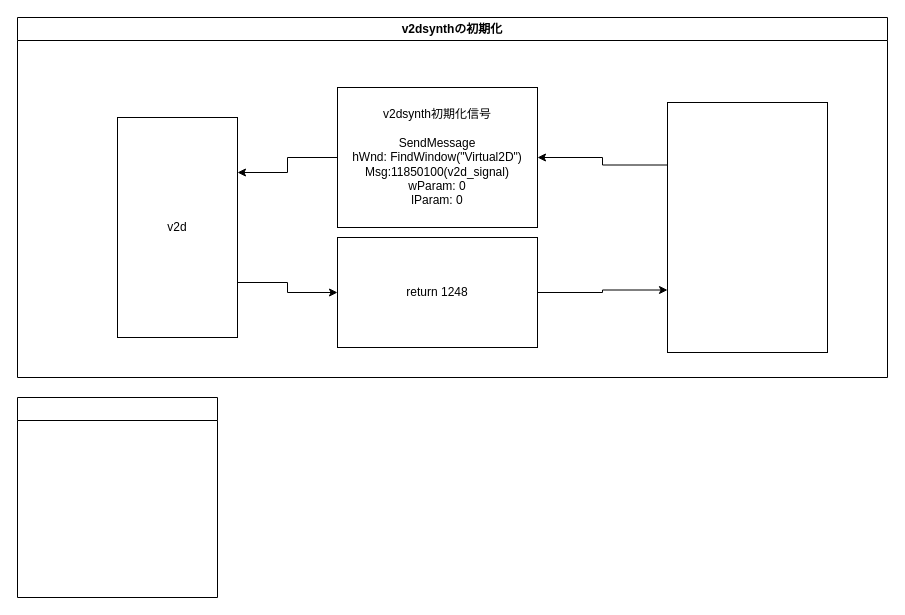
The diagram is 905 pixels wide and 615 high, and some of its shapes have lost their labels. The shapes that lost their labels are listed below. From the top down, each one's centre as x and y in pixels, then its label:
At point (747, 227): "v2dsynth".
At point (117, 497): "v2dに声を届ける".
